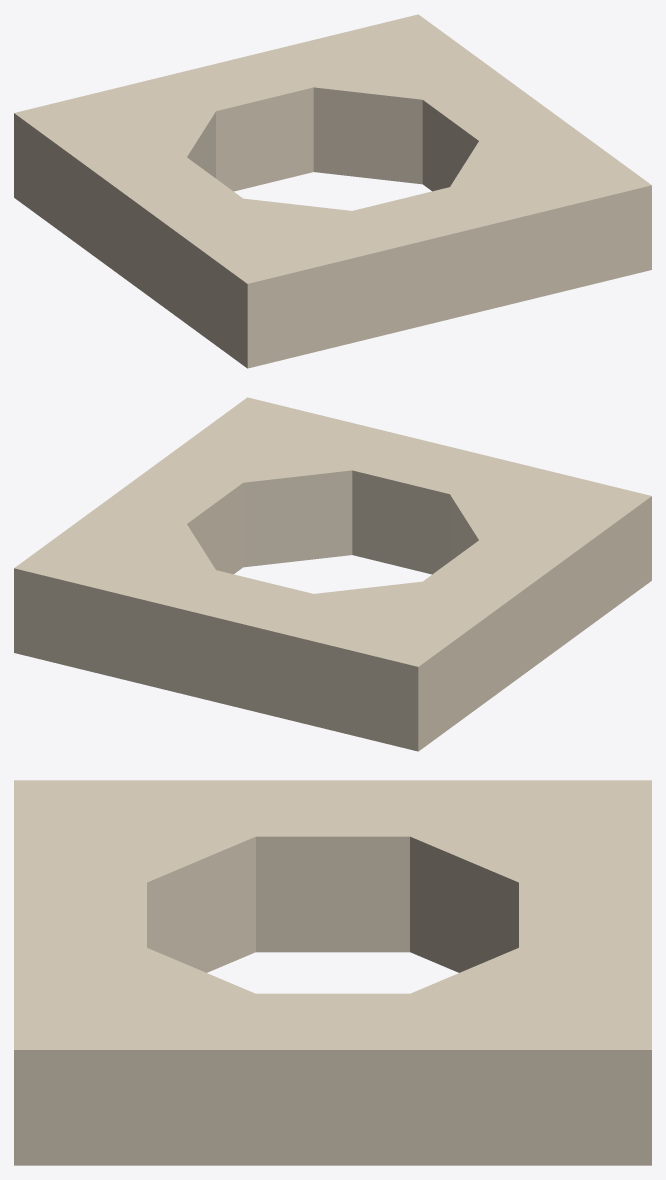
The model's file is Prop_Well_Dirt.glb.
The picture shows the model from 3 angles, top to bottom: view 1: azimuth 30°, elevation 25°; view 2: azimuth 150°, elevation 25°; view 3: azimuth 270°, elevation 25°; orthographic projection. The views are drawn at different scales.
Parts seen in each view (by area): view 1: object1; view 2: object1; view 3: object1.
Boxes of the visible parts, x1,y1,x2,y2 form: object1: [14, 14, 651, 368]; object1: [14, 397, 651, 751]; object1: [14, 780, 651, 1165].
Bounding box in the file's own units: 1 × 0.2 × 1.
